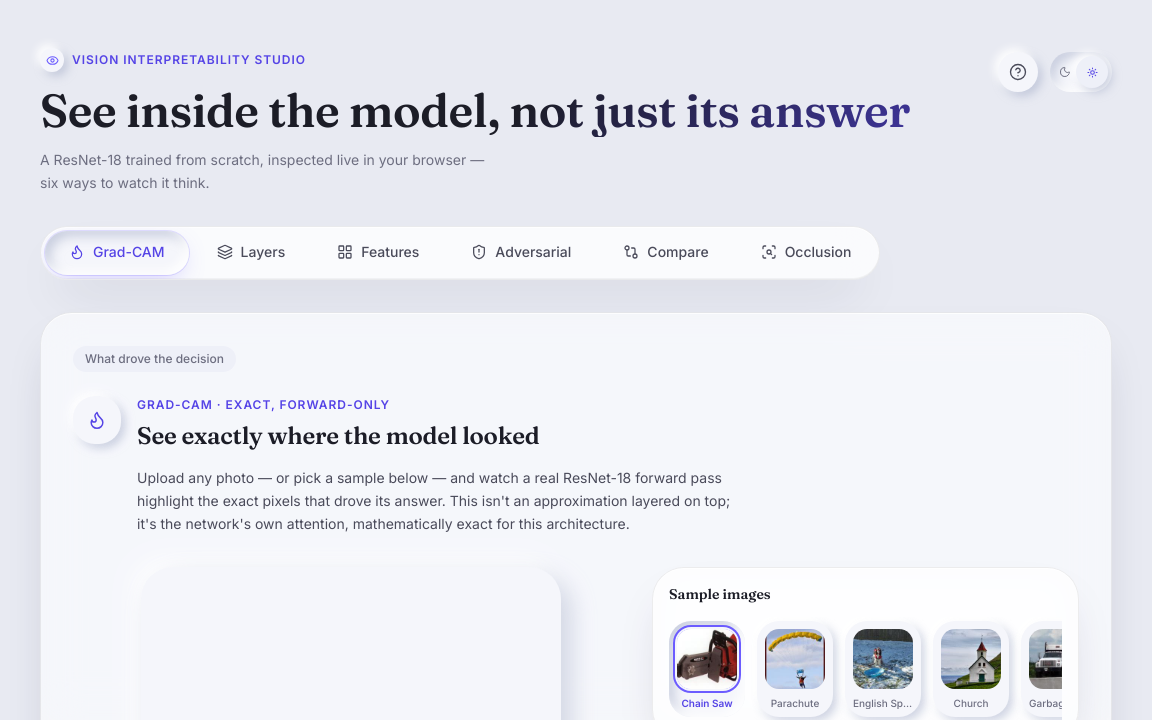
Test: WorkbenchShell › reopens the onboarding tour from the header help button even after it was dismissed
Click the button named "what is this tool": click(1018, 72) [998,52,1038,92]
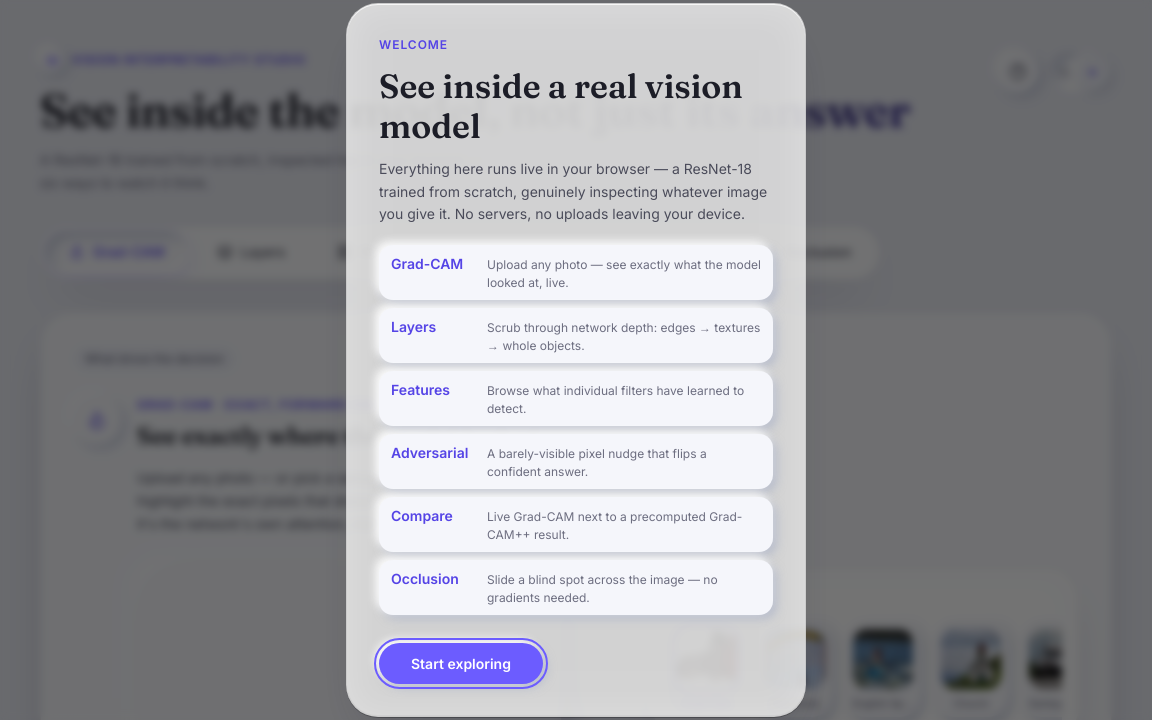
Expected: the dialog is shown, [346,3,806,717]
